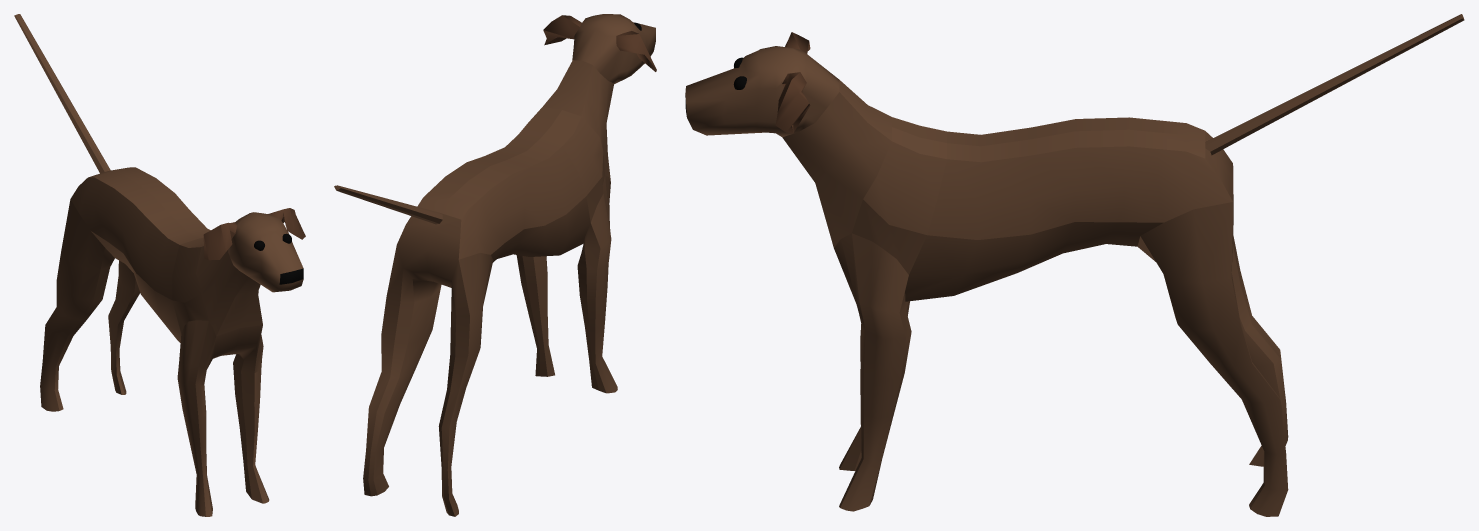
The model's file is Dog2ModelAverage.fbx.
3 views of the same model, side by side, from view 1: azimuth 30°, elevation 25°; view 2: azimuth 150°, elevation 25°; view 3: azimuth 270°, elevation 25° (orthographic). The views are drawn at different scales.
Parts seen in each view (by area): view 1: Dog2_0018:pCube4; view 2: Dog2_0018:pCube4; view 3: Dog2_0018:pCube4.
Boxes of the visible parts, bbox=[...] form: Dog2_0018:pCube4: bbox=[14, 14, 305, 516]; Dog2_0018:pCube4: bbox=[334, 14, 656, 516]; Dog2_0018:pCube4: bbox=[685, 14, 1464, 516].
Size of the model in its own units: 0.2201 by 0.7037 by 1.05.
